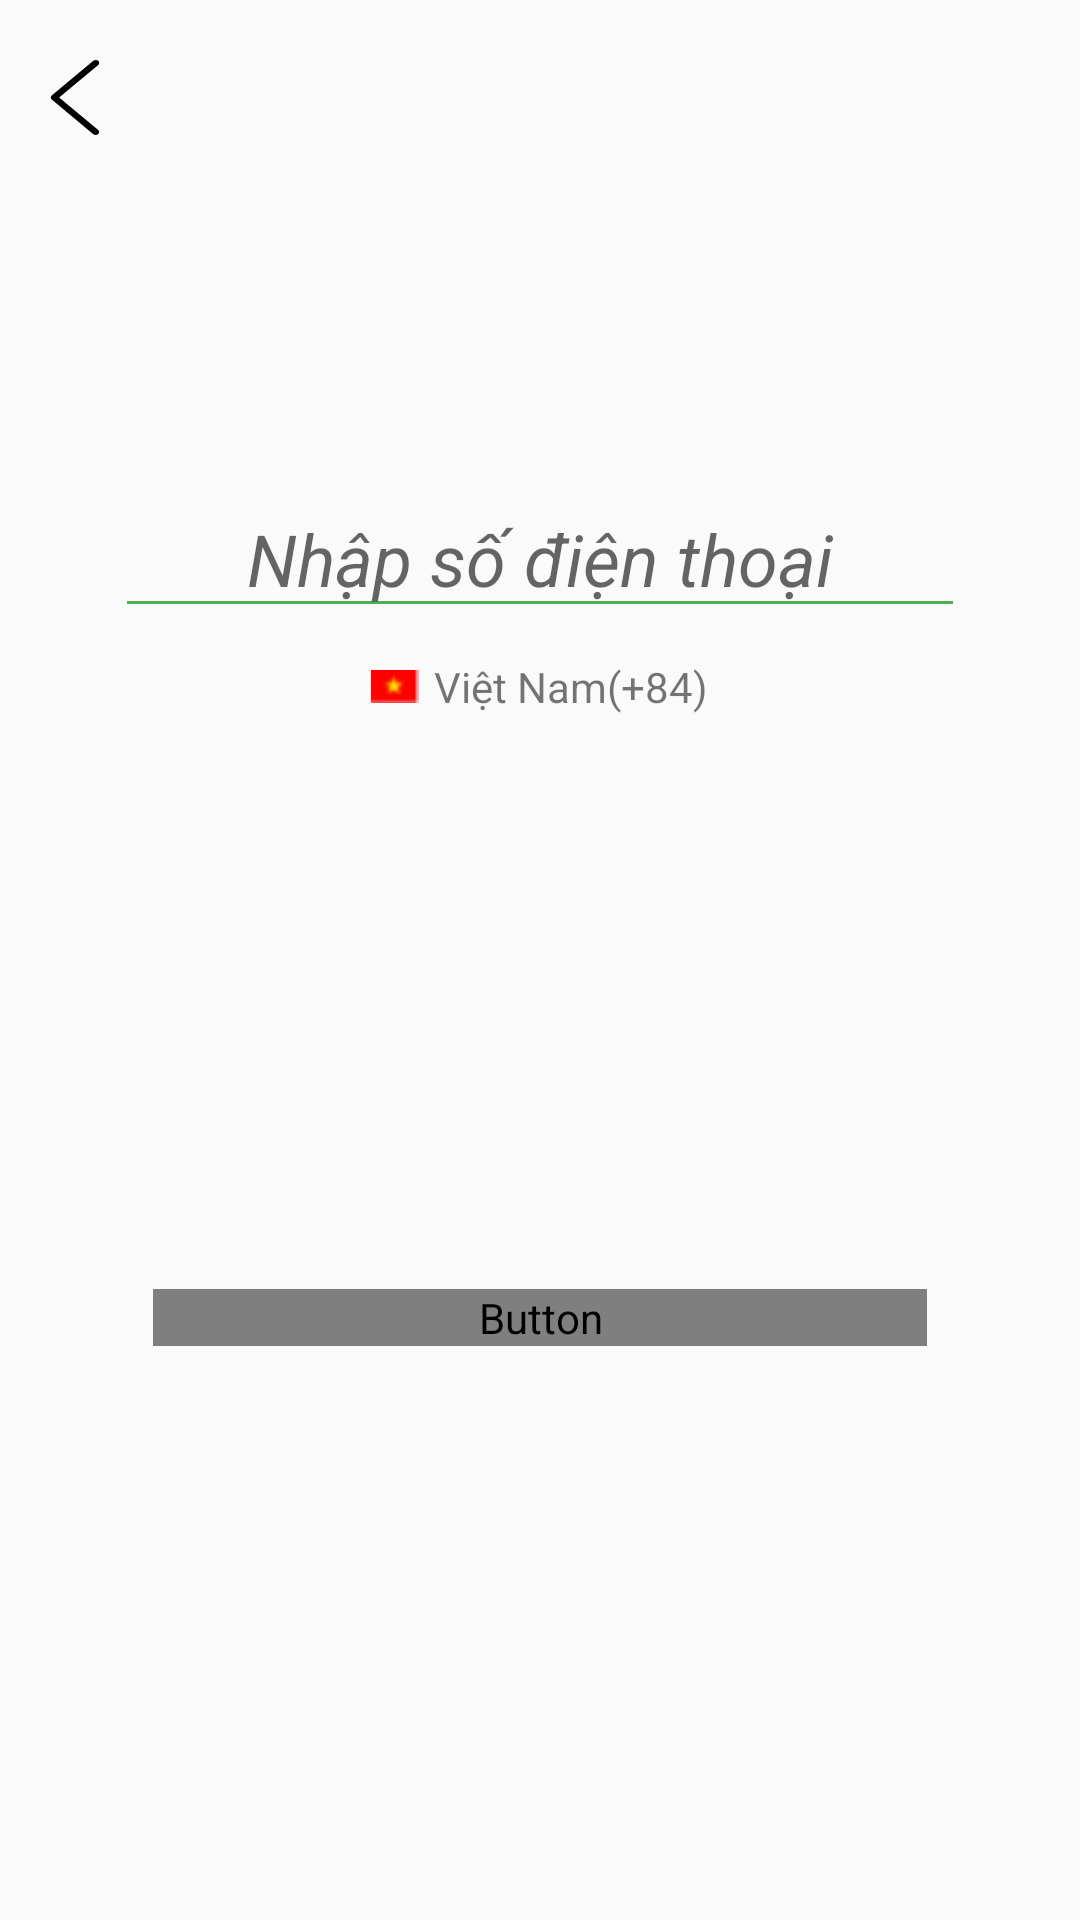

Icons on this 1080w x 1920h Android screen, each with the point to tap as (x=x, y=y):
back: (x=75, y=97)
flag vn: (x=395, y=686)
